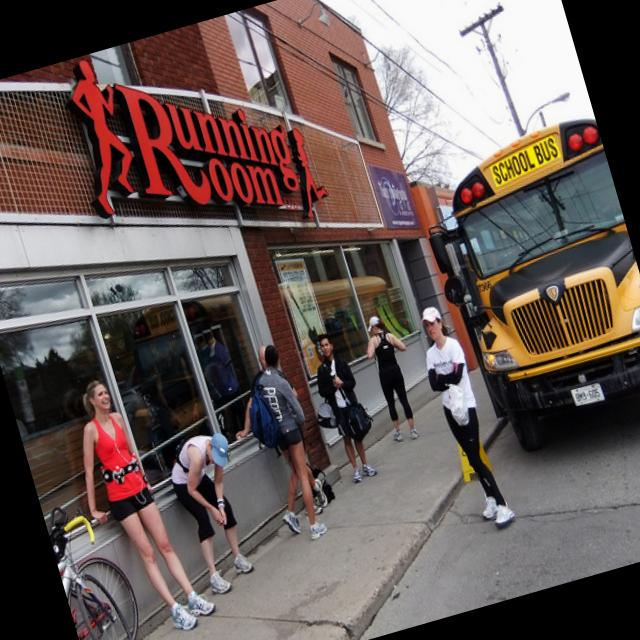Vehicle: (402, 106, 640, 465)
